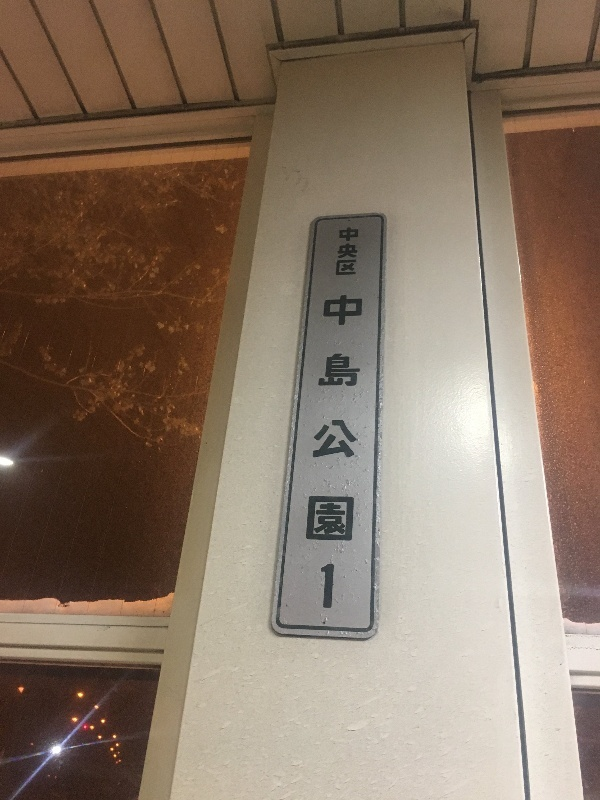text: (337, 296, 352, 609), (325, 296, 336, 609), (353, 296, 363, 609), (340, 228, 352, 275), (353, 228, 359, 275)
